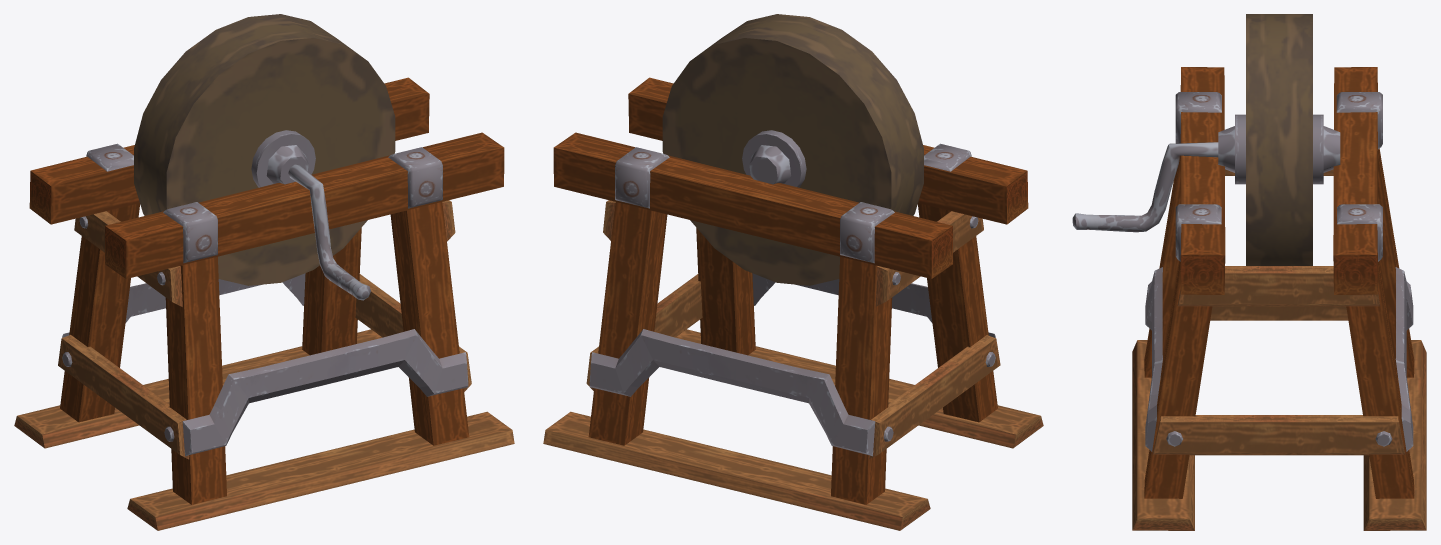
The model's file is whetstone.glb.
3 views of the same model, side by side, from view 1: azimuth 30°, elevation 25°; view 2: azimuth 150°, elevation 25°; view 3: azimuth 270°, elevation 25° (orthographic). The views are drawn at different scales.
Parts seen in each view (by area): view 1: Whetstone; view 2: Whetstone; view 3: Whetstone.
Part boxes in pixels (<box>): Whetstone: <box>14,14,514,530</box>; Whetstone: <box>543,14,1043,530</box>; Whetstone: <box>1072,14,1426,530</box>.
Bounding box in the file's own units: 1.14 × 1.17 × 0.9018.
3 materials, 3 textured.
